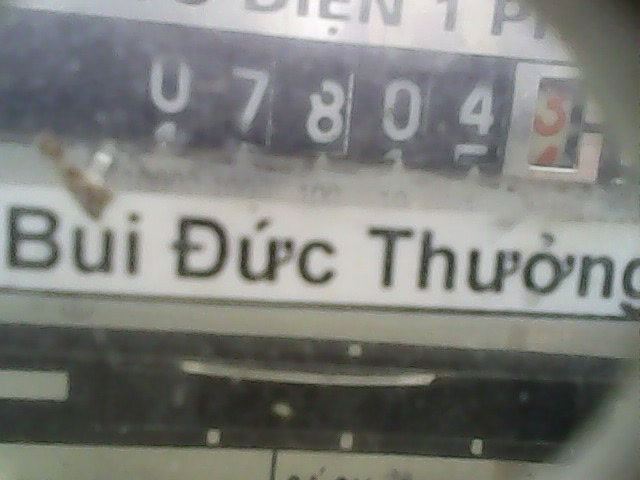phy_plate: (133, 18, 605, 183)
